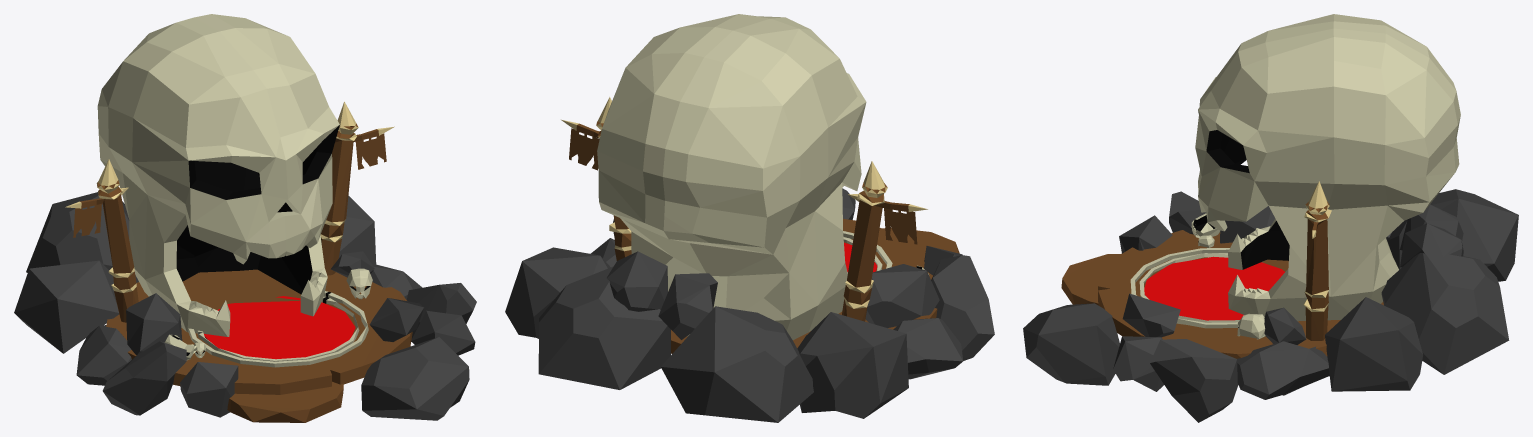
File: GegnerSpawner.fbx
3 views of the same model, side by side, from view 1: azimuth 30°, elevation 25°; view 2: azimuth 150°, elevation 25°; view 3: azimuth 270°, elevation 25° (orthographic). The views are drawn at different scales.
Parts seen in each view (by area): view 1: Spawner, Flagge 01, Falgge 02; view 2: Spawner, Falgge 02, Flagge 01; view 3: Spawner.
Part boxes in pixels (x1,y1,x2,y2): Spawner: (14, 14, 476, 422); Flagge 01: (355, 133, 386, 169); Falgge 02: (73, 203, 101, 237); Spawner: (505, 14, 994, 422); Falgge 02: (884, 208, 917, 244); Flagge 01: (569, 128, 599, 170); Spawner: (1023, 14, 1518, 422).
Size of the model in its own units: 260 by 223 by 316.
